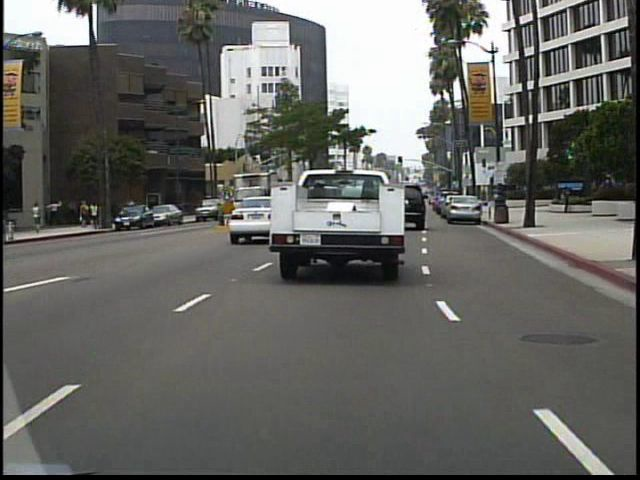person: (33, 199, 45, 237), (559, 183, 573, 215)
